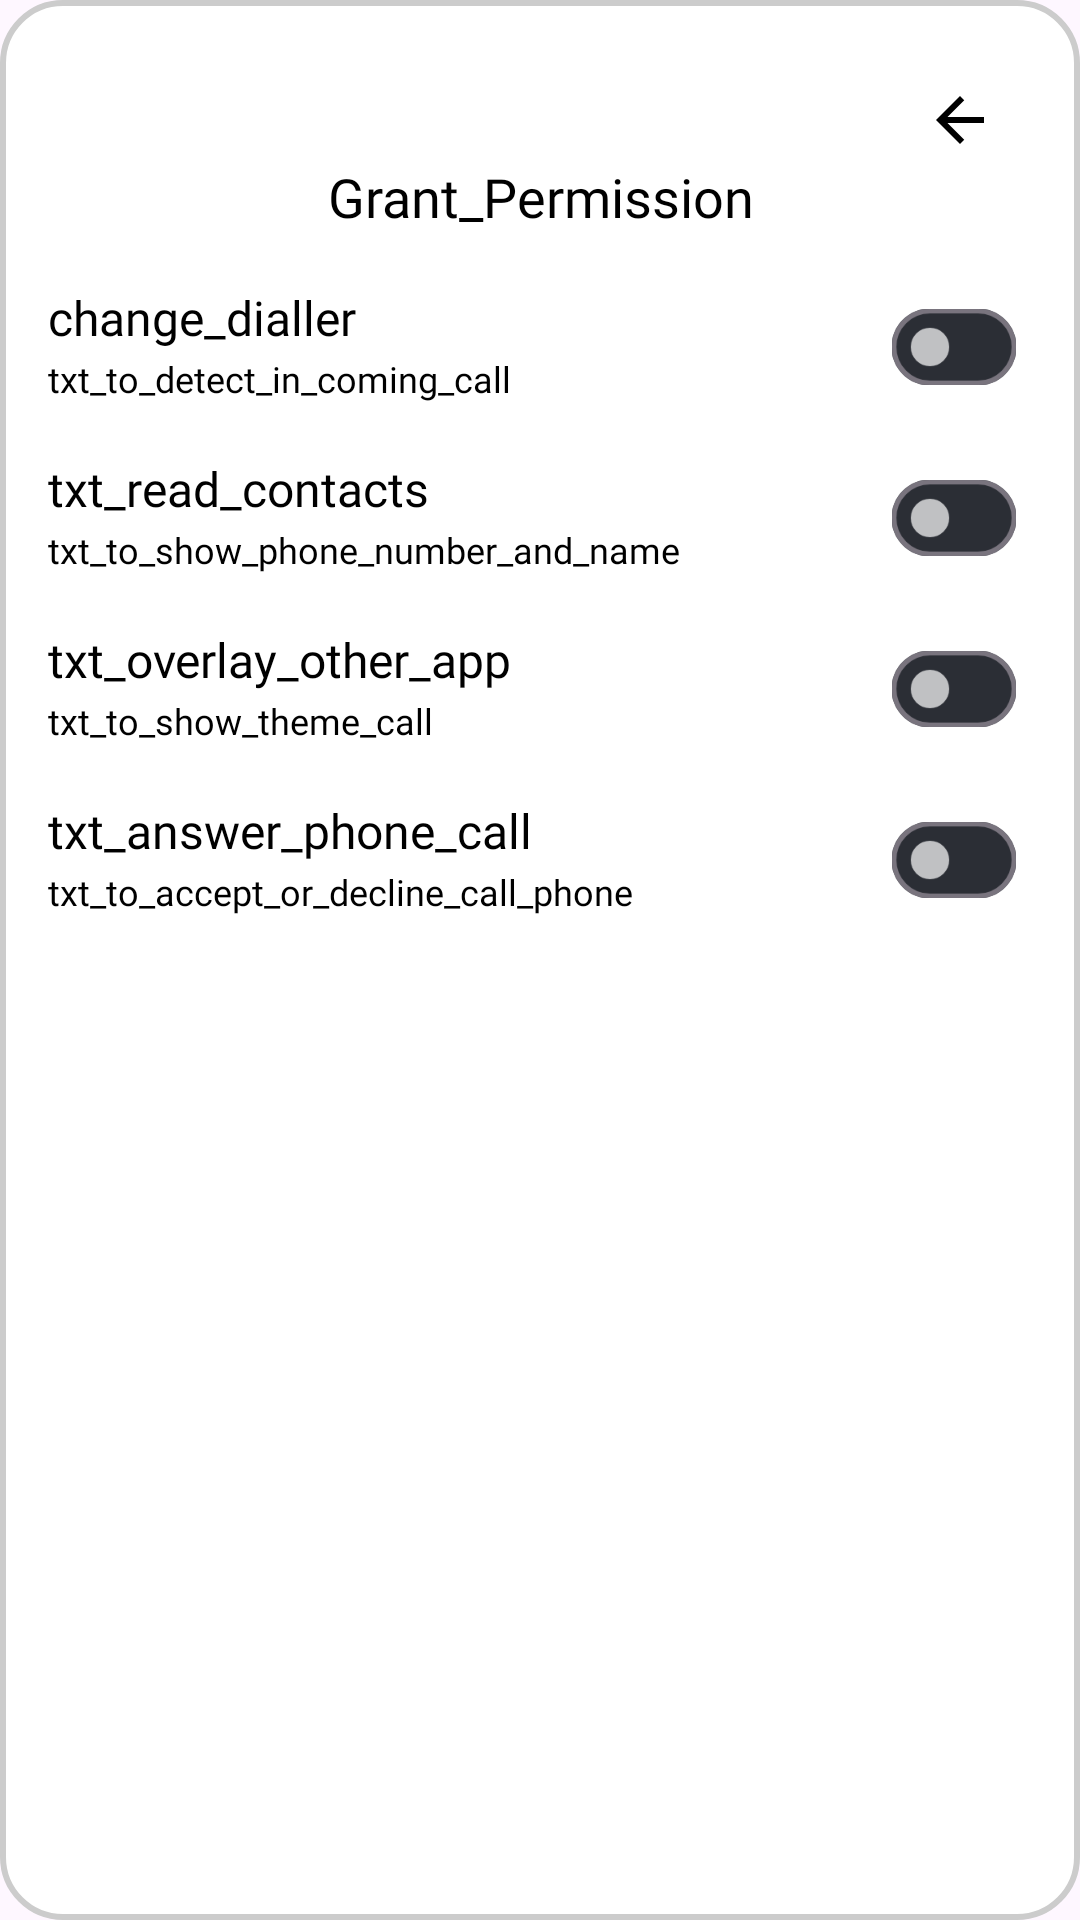

Icon bounding boxes for this 1080px×1920px phone screenshot, format bbox=[x1, y1, x2, y2]:
back: bbox=[936, 96, 984, 144]
